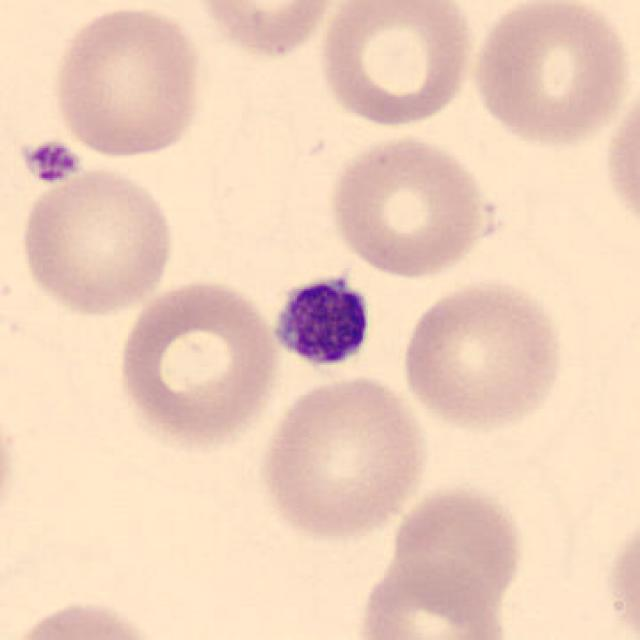Platelets: (267, 270, 377, 376), (20, 138, 84, 185)
RBC: (254, 370, 432, 543), (112, 274, 283, 452), (396, 273, 569, 434), (46, 2, 208, 162), (324, 130, 496, 280), (16, 164, 180, 319), (466, 0, 634, 150), (314, 0, 478, 130), (386, 482, 528, 616), (354, 557, 514, 640), (189, 0, 343, 60), (4, 594, 176, 640), (599, 76, 640, 243), (601, 509, 640, 640)
